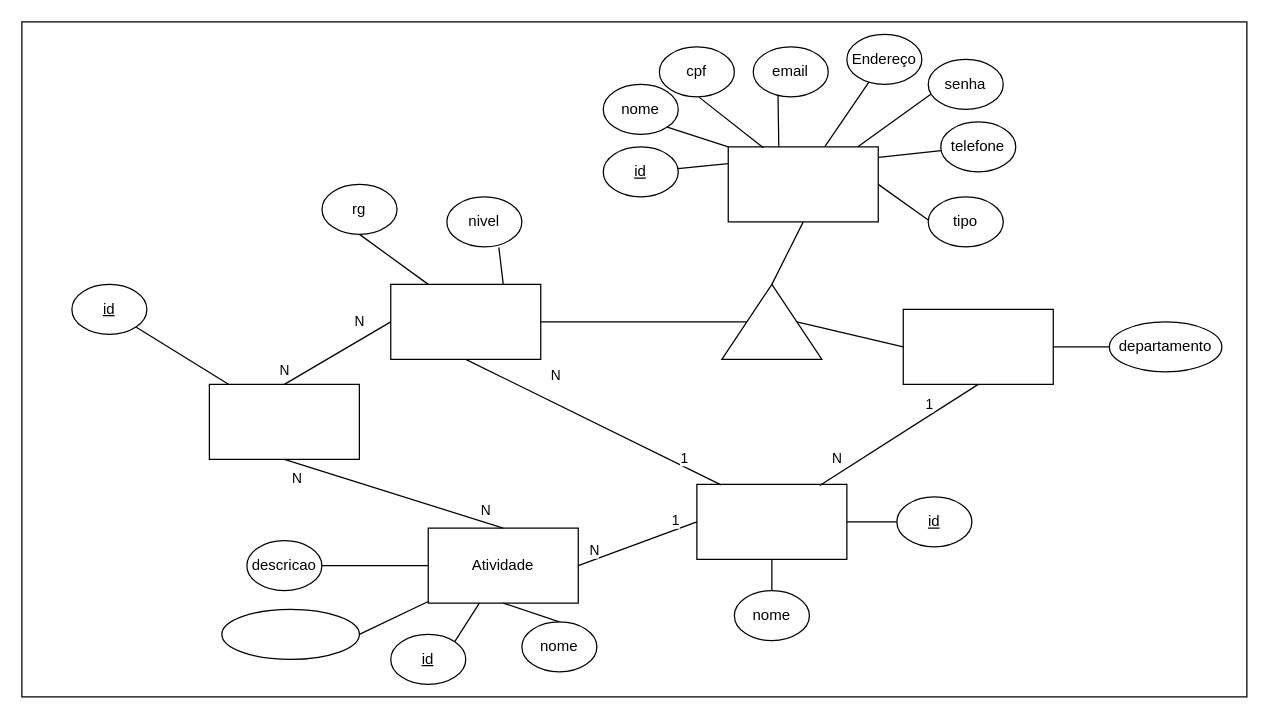
This 1269x719 diagram has some shape labels left out. Here are the shapes that lost their labels. From the top down, the centre of each, then its label:
At (802,184): "Usuários".
At (465,321): "Estudante".
At (977,346): "Professor".
At (283,421): "estudanteAtividade".
At (771,521): "Turma".
At (290,633): "nivel_dificuldade".
